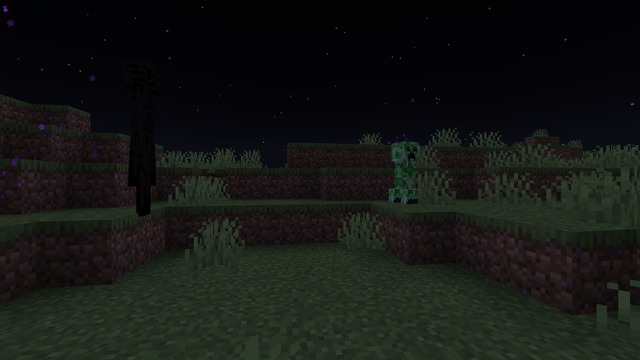creepers: (389, 138, 420, 203)
endermens: (116, 53, 165, 213)
